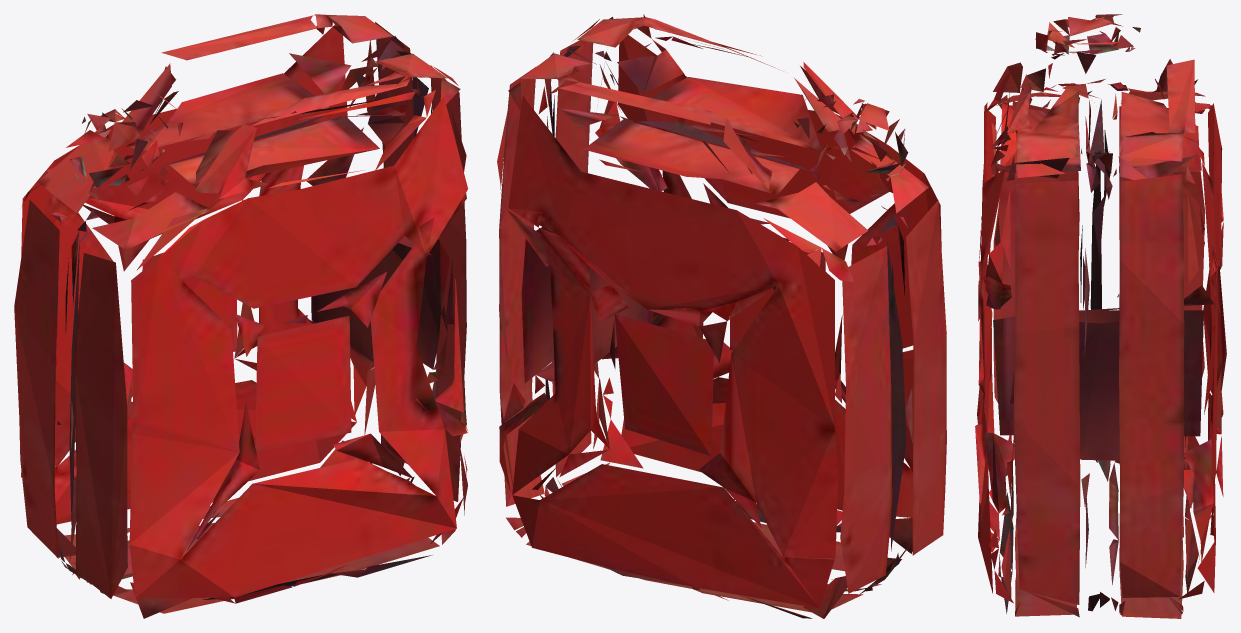
Rendered from fuel_can.glb.
3 views of the same model, side by side, from view 1: azimuth 30°, elevation 25°; view 2: azimuth 150°, elevation 25°; view 3: azimuth 270°, elevation 25° (orthographic).
Parts seen in each view (by area): view 1: world; view 2: world; view 3: world.
Boxes of the visible parts, x1=… form: world: x1=14, y1=14, x2=467, y2=618; world: x1=497, y1=14, x2=946, y2=618; world: x1=975, y1=14, x2=1226, y2=618.
Size of the model in its own units: 1.59 by 2.02 by 0.9556.
1 material, 1 textured.
